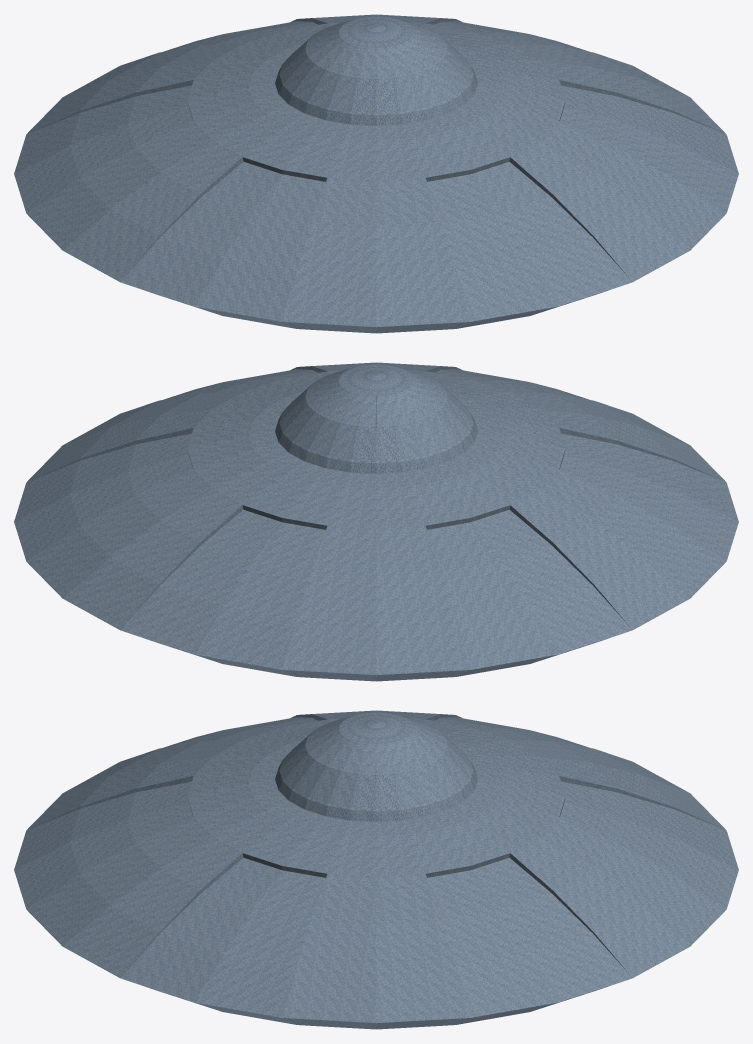
Rendered from soucoupevolantedemarsattack_1.glb.
The picture shows the model from 3 angles, top to bottom: view 1: azimuth 30°, elevation 25°; view 2: azimuth 150°, elevation 25°; view 3: azimuth 270°, elevation 25°; orthographic projection.
Parts seen in each view (by area): view 1: Material2; view 2: Material2; view 3: Material2.
Part boxes in pixels (<box>): Material2: <box>14,14,738,333</box>; Material2: <box>14,362,738,681</box>; Material2: <box>14,710,738,1029</box>.
Bounding box in the file's own units: 787 × 291 × 787.
1 material, 1 textured.
